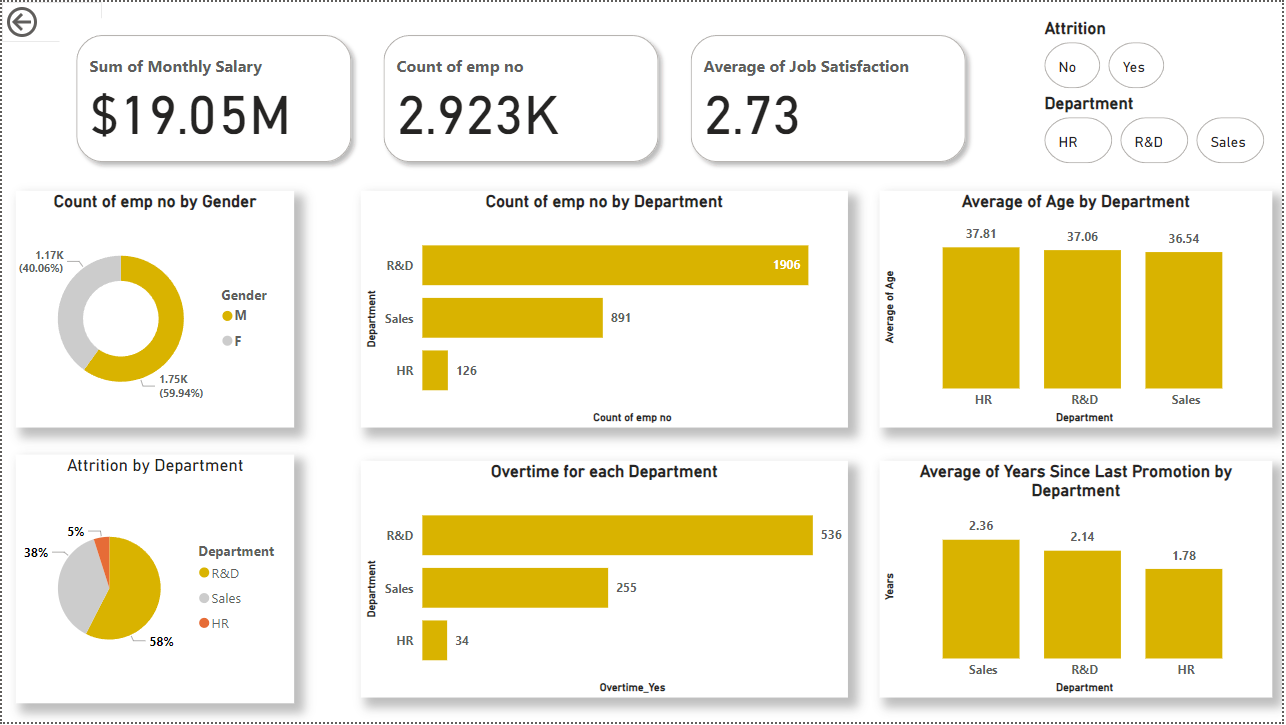

Layout of this report page (visuals, bound fields, positions):
{"tool":"powerbi","page":{"name":"Departments","canvas":[1280,720],"ordinal":2},"visuals":[{"type":"actionButton","box":[0,0,100,40],"z":0},{"type":"cardVisual","fields":{"Data":["Sum(Sheet1.Monthly Salary)","Count(Sheet1.emp no)","Avg(Sheet1.Job Satisfaction)"]},"box":[57.1,16,924.3,161.4],"z":1000},{"type":"donutChart","fields":{"Category":["Sheet1.Gender"],"Y":["CountNonNull(Sheet1.emp no)"]},"box":[14.3,188.6,278.6,237.1],"z":2000},{"type":"advancedSlicerVisual","fields":{"Values":["Sheet1.Attrition"]},"box":[1037.1,15.7,195.7,75.7],"z":3000},{"type":"advancedSlicerVisual","fields":{"Values":["Sheet1.Department"]},"box":[1037.1,91.4,232.9,75.7],"z":4000},{"type":"pieChart","title":"Attrition by Department","fields":{"Y":["Sheet1.Yes"],"Category":["Sheet1.Department"]},"box":[14.3,452.9,278.6,248.6],"z":5000},{"type":"clusteredBarChart","fields":{"Y":["CountNonNull(Sheet1.emp no)"],"Category":["Sheet1.Department"]},"box":[358.6,188.6,487.1,237.1],"z":6000},{"type":"clusteredBarChart","title":"Overtime for each Department","fields":{"Category":["Sheet1.Department"],"Y":["Sheet1.Overtime_Yes"]},"box":[358.6,458.6,487.1,237.1],"z":7000},{"type":"clusteredColumnChart","fields":{"Category":["Sheet1.Department"],"Y":["Avg(Sheet1.Age)"]},"box":[877.1,188.6,392.9,237.1],"z":8000},{"type":"clusteredColumnChart","fields":{"Category":["Sheet1.Department"],"Y":["Avg(Sheet1.Years Since Last Promotion)"]},"box":[877.1,458.6,392.9,237.1],"z":9000}]}

Visuals, with their boxes in screenshot pixels (x1, y1, x2, y2), scaled from the page's 1280x720 canvas onto the 1286x725 screenshot:
actionButton: box(0, 0, 100, 40)
cardVisual - Sum(Sheet1.Monthly Salary) x Count(Sheet1.emp no): box(57, 16, 986, 179)
donutChart - Sheet1.Gender x CountNonNull(Sheet1.emp no): box(14, 190, 294, 429)
advancedSlicerVisual - Sheet1.Attrition: box(1042, 16, 1239, 92)
advancedSlicerVisual - Sheet1.Department: box(1042, 92, 1276, 168)
"Attrition by Department" pieChart: box(14, 456, 294, 706)
clusteredBarChart - CountNonNull(Sheet1.emp no) x Sheet1.Department: box(360, 190, 850, 429)
"Overtime for each Department" clusteredBarChart: box(360, 462, 850, 701)
clusteredColumnChart - Sheet1.Department x Avg(Sheet1.Age): box(881, 190, 1276, 429)
clusteredColumnChart - Sheet1.Department x Avg(Sheet1.Years Since Last Promotion): box(881, 462, 1276, 701)
